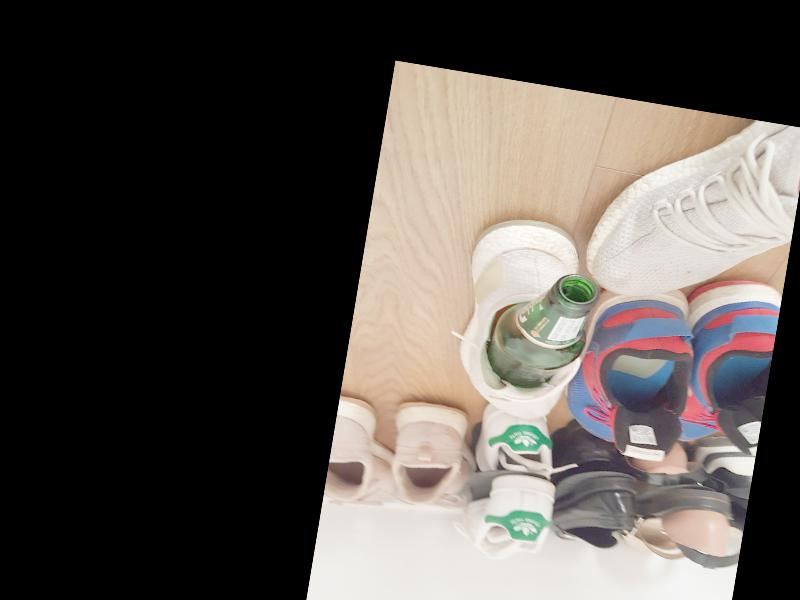Beer: (484, 263, 599, 395)
